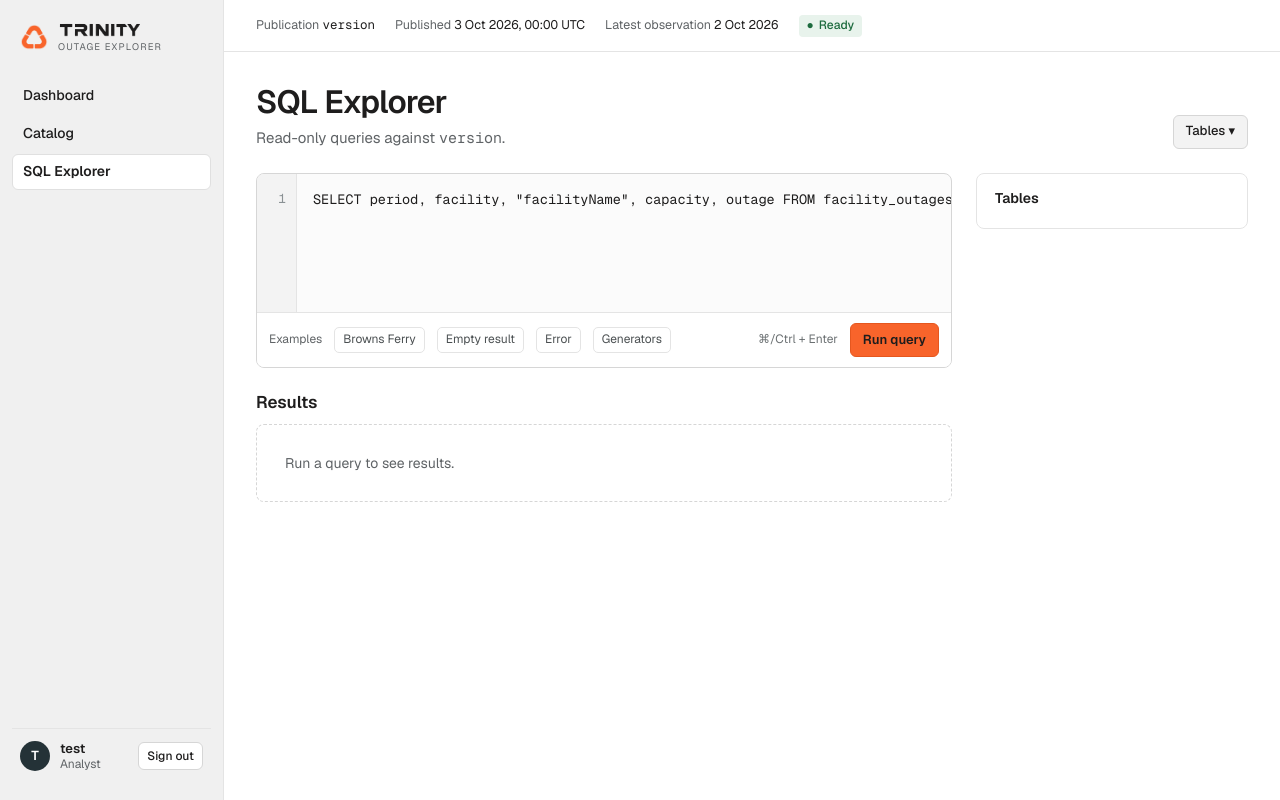
SQL data-unavailable response shows the waiting state without Admin controls
Click the button "Run query" at [894, 340], box [850,322,939,356]
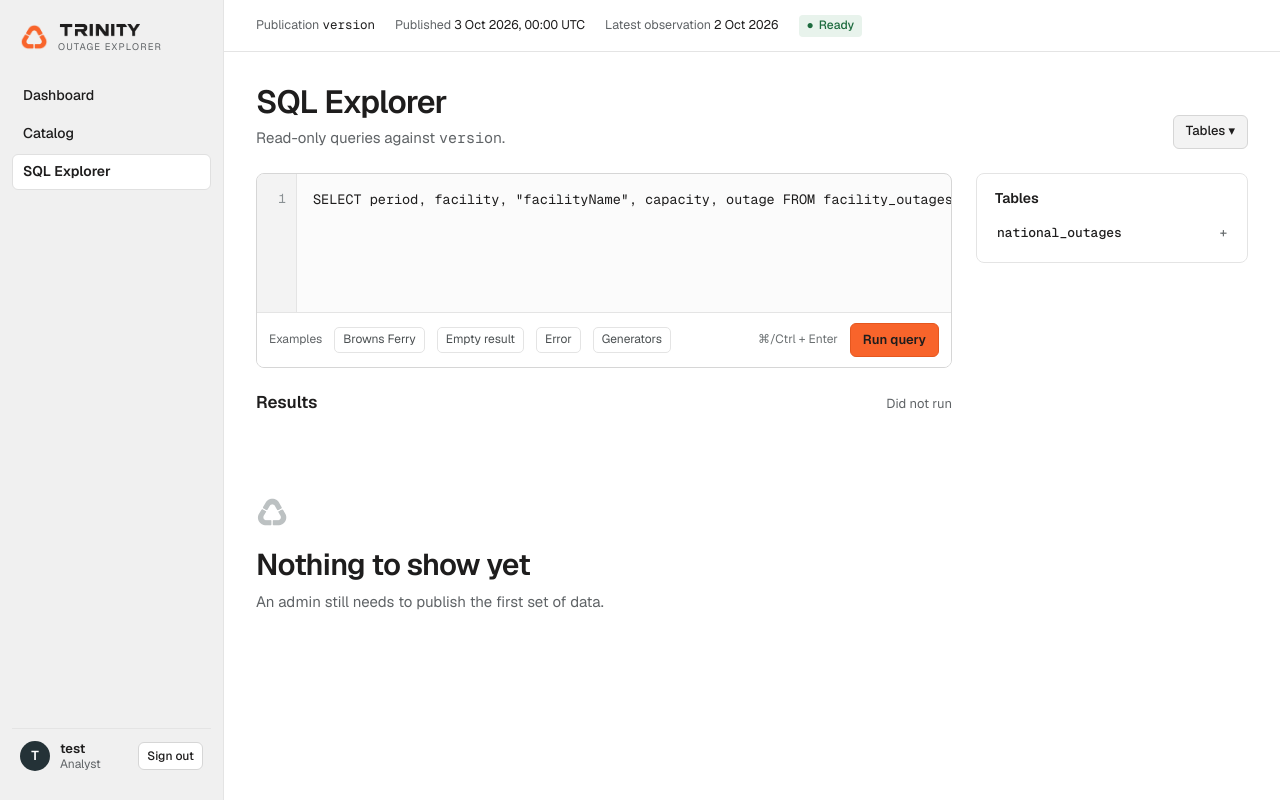
Result: the heading "Nothing to show yet" is shown at [256,547,530,583]
